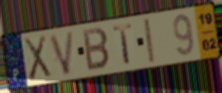9: (171, 12, 196, 58)
B: (82, 26, 112, 73)
I: (142, 17, 157, 65)
T: (111, 22, 134, 66)
V: (47, 29, 76, 77)
X: (22, 33, 53, 83)
